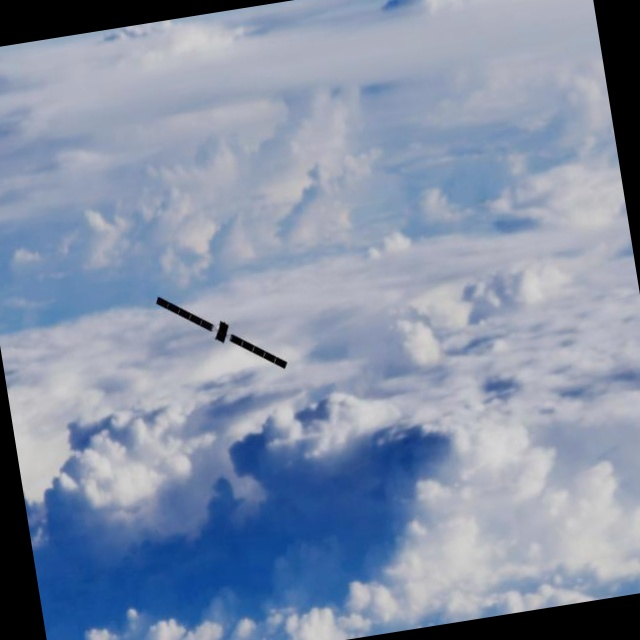satellite: (141, 275, 291, 394)
